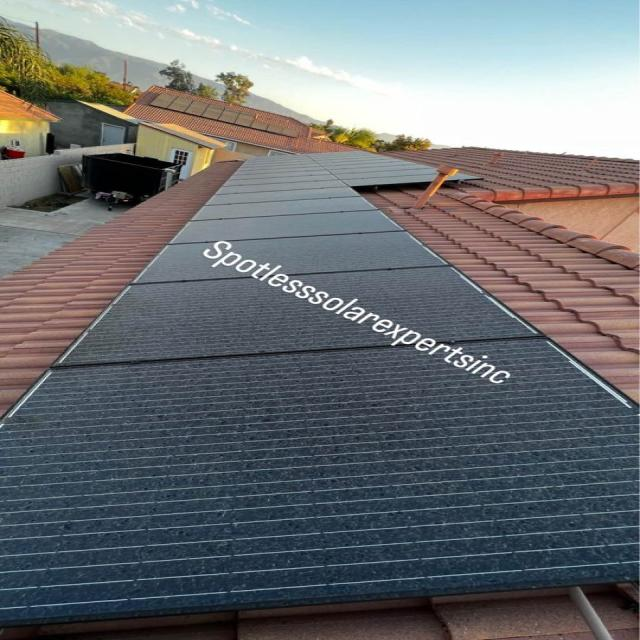dust-solar-panel: (4, 152, 636, 626)
